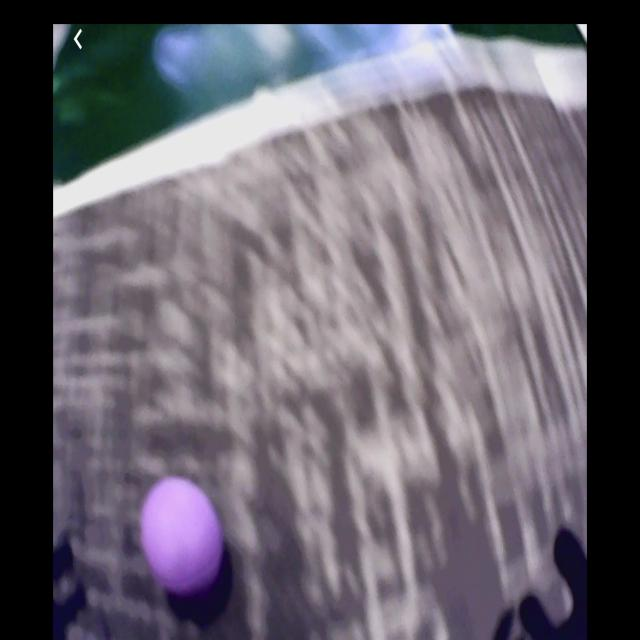ball: (145, 479, 224, 598)
